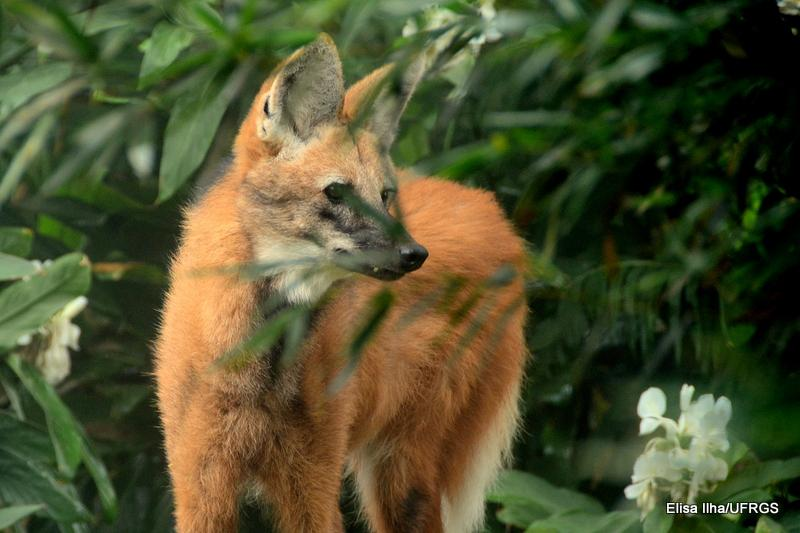LoboGuara: (140, 32, 557, 522)
